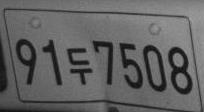0: (144, 43, 167, 92)
1: (40, 39, 64, 84)
5: (119, 42, 143, 88)
7: (91, 39, 115, 85)
8: (167, 45, 193, 94)
9: (15, 38, 37, 85)
두: (66, 47, 93, 85)
